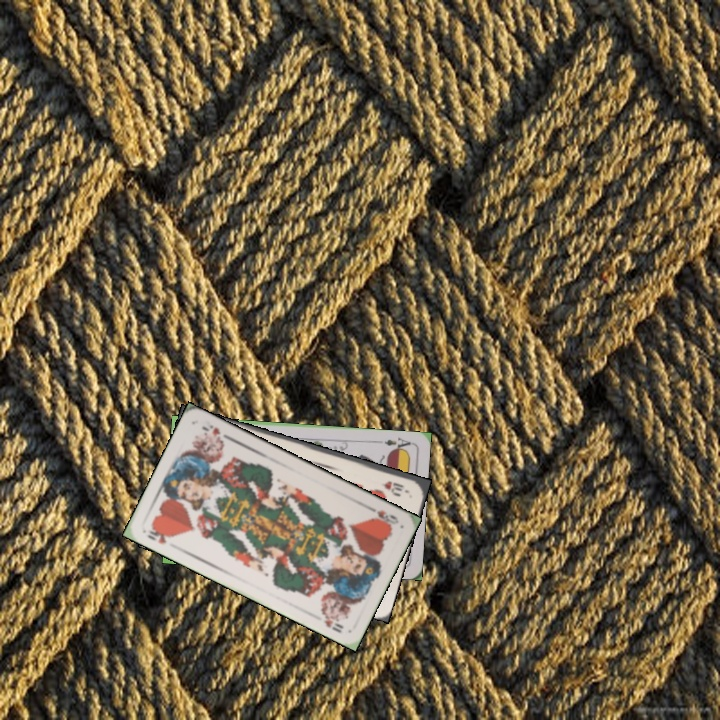EA: (380, 433, 413, 454)
H10: (376, 477, 407, 494)
HO: (363, 502, 401, 528), (143, 523, 176, 546)
